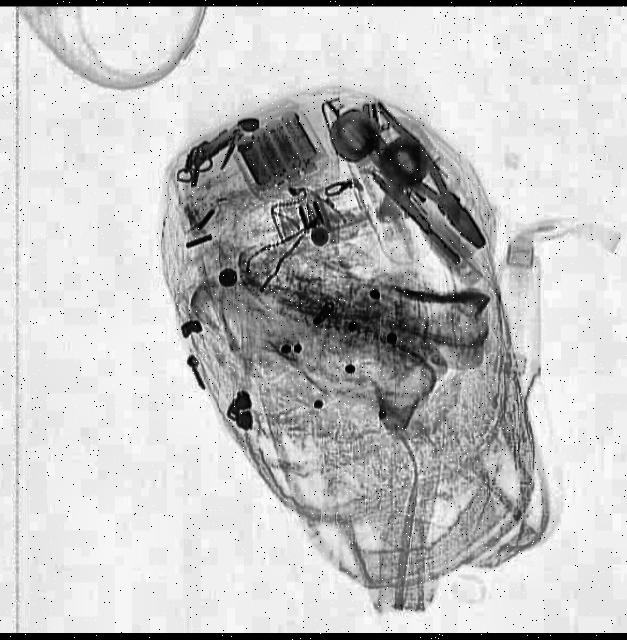Pliers: (340, 91, 497, 268)
